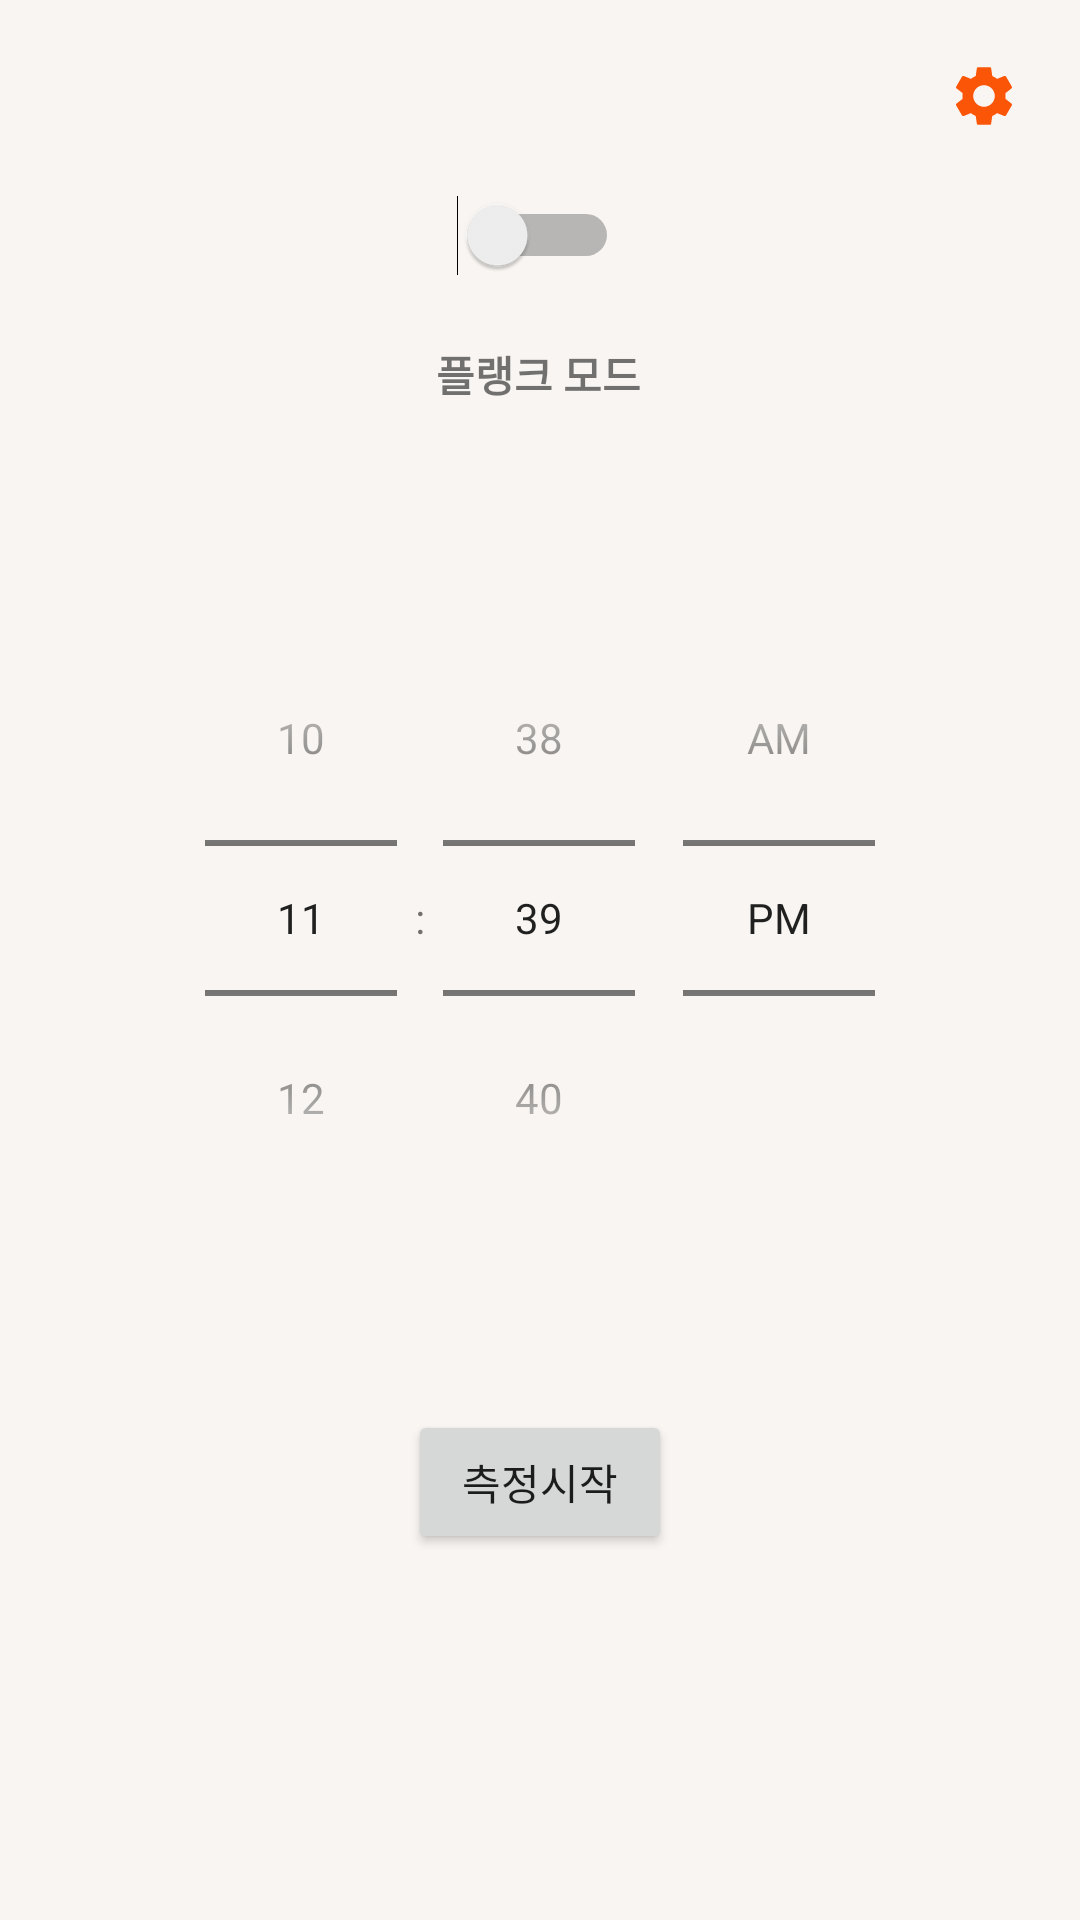

Locate icon controls on the screen. Image size 1080px x 1920px, boxes as (x1, y1, x2, y2).
settings: (956, 67, 1012, 125)
